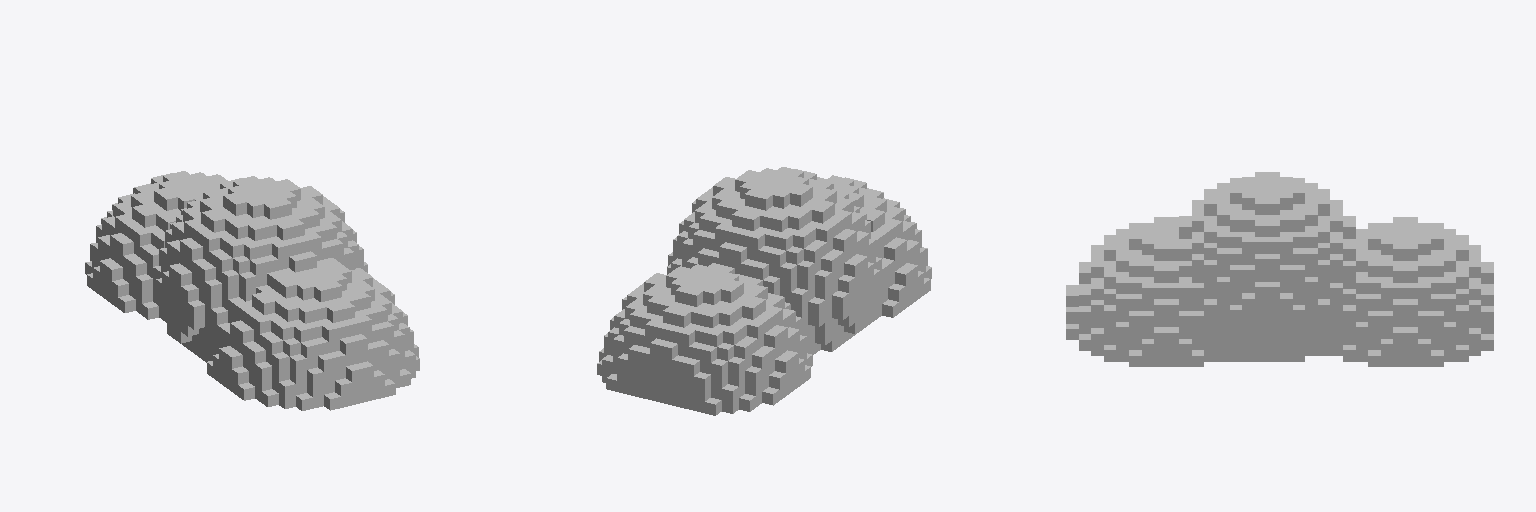
Rendered from Snowdrift_1.obj.
3 renders of one model, left to right at view 1: azimuth 30°, elevation 25°; view 2: azimuth 150°, elevation 25°; view 3: azimuth 270°, elevation 25°, orthographic.
Parts seen in each view (by area): view 1: object 1; view 2: object 1; view 3: object 1.
Part boxes in pixels (x1,y1,x2,y2): object 1: (85,171,419,410); object 1: (597,167,931,415); object 1: (1066,172,1493,366).
Size of the model in its own units: 1.6 by 1.2 by 3.4.